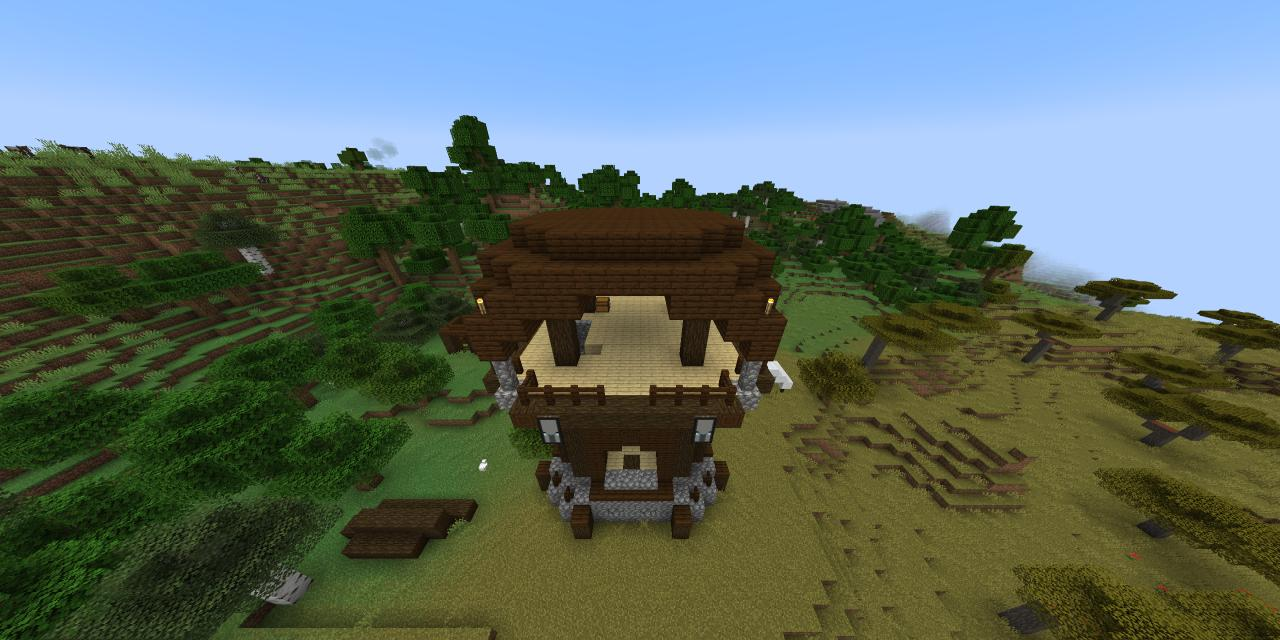pillager outpost: (444, 193, 801, 556)
